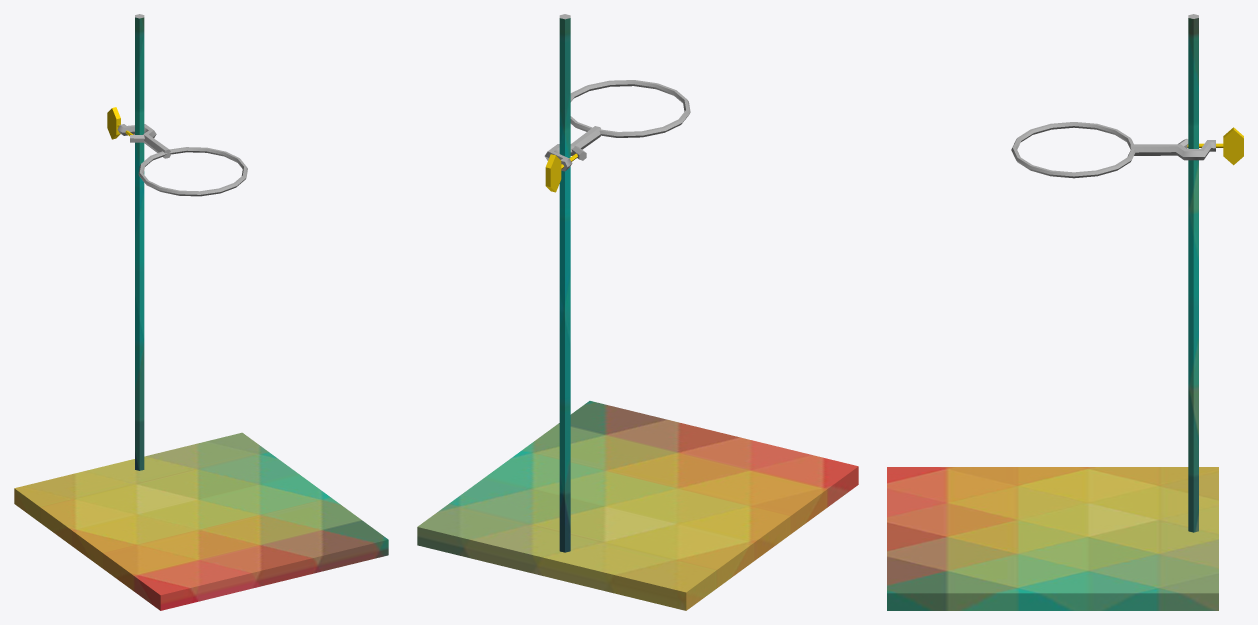
File: Ring_stands_rings_attached.fbx
The picture shows the model from 3 angles, left to right: view 1: azimuth 30°, elevation 25°; view 2: azimuth 150°, elevation 25°; view 3: azimuth 270°, elevation 25°; orthographic projection. The views are drawn at different scales.
Visible parts, largest first — view 1: Ring_stands, Rings_attached; view 2: Ring_stands, Rings_attached; view 3: Ring_stands, Rings_attached.
Part boxes in pixels (x1=…): Ring_stands: x1=14, y1=14, x2=388, y2=610; Rings_attached: x1=107, y1=107, x2=247, y2=196; Ring_stands: x1=417, y1=14, x2=858, y2=610; Rings_attached: x1=544, y1=80, x2=690, y2=192; Ring_stands: x1=887, y1=14, x2=1218, y2=610; Rings_attached: x1=1011, y1=122, x2=1243, y2=178.
Size of the model in its own units: 1124 by 2203 by 1341.
Materials: 1 (1 with a texture image).
